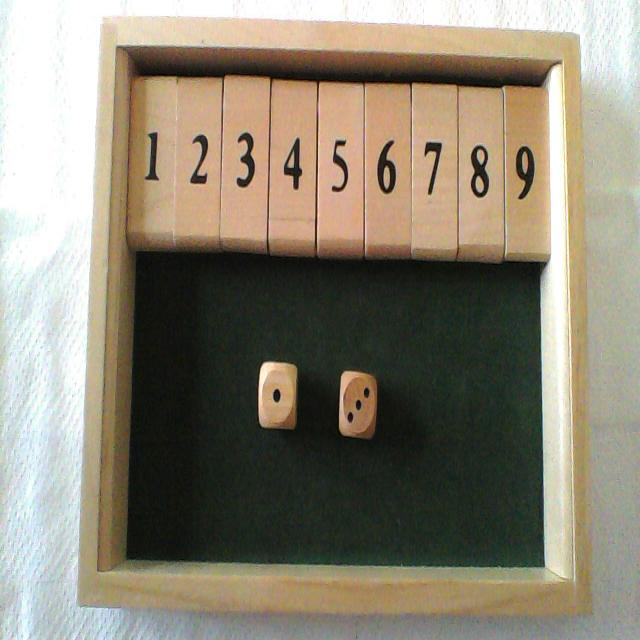1: (255, 357, 300, 435)
3: (335, 364, 380, 444)
C1: (128, 15, 175, 253)
C2: (176, 16, 223, 253)
C3: (222, 17, 270, 253)
C4: (270, 21, 318, 257)
C5: (318, 21, 362, 258)
C6: (367, 23, 409, 260)
C7: (413, 25, 455, 261)
C8: (461, 26, 502, 263)
C9: (508, 27, 549, 264)
